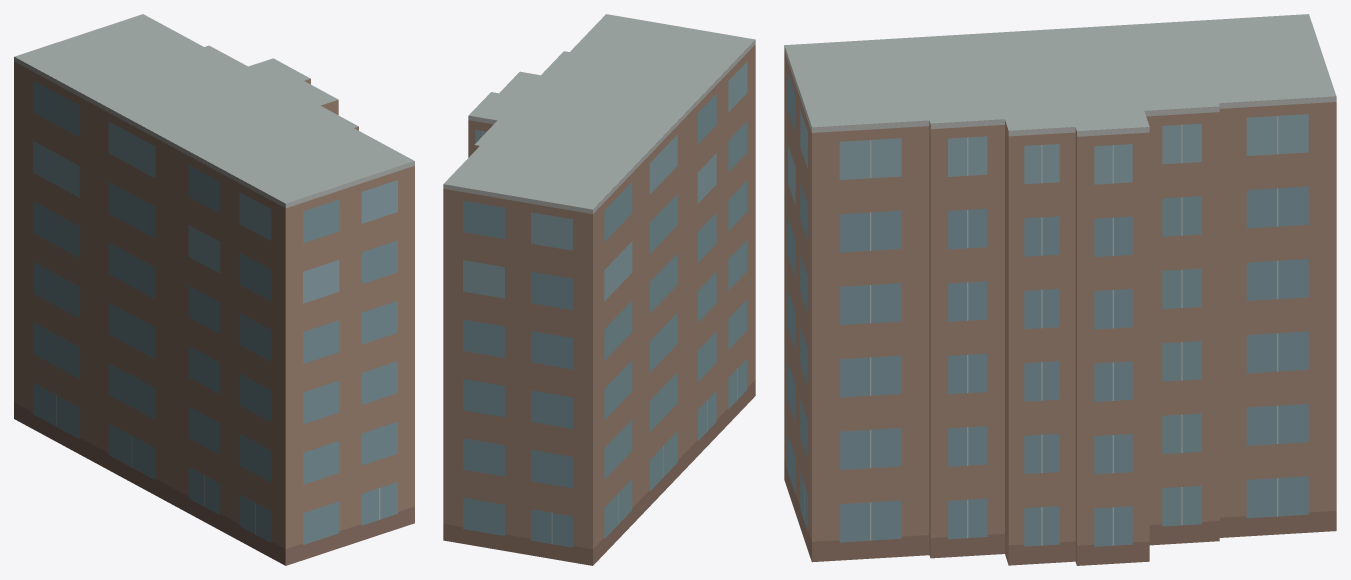
File: survey-upis-32573856.glb
The picture shows the model from 3 angles, left to right: view 1: azimuth 30°, elevation 25°; view 2: azimuth 150°, elevation 25°; view 3: azimuth 270°, elevation 25°; orthographic projection. The views are drawn at different scales.
Parts seen in each view (by area): view 1: survey-upis-32573856.tmp; view 2: survey-upis-32573856.tmp; view 3: survey-upis-32573856.tmp.
Part boxes in pixels (box(x1,y1,x2,y2)): survey-upis-32573856.tmp: box(14, 14, 414, 565); survey-upis-32573856.tmp: box(443, 14, 755, 565); survey-upis-32573856.tmp: box(784, 14, 1336, 565).
Bounding box in the file's own units: 10.94 × 18.9 × 21.77.
